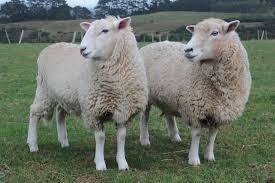koyun: (27, 15, 141, 172), (141, 17, 252, 165)
